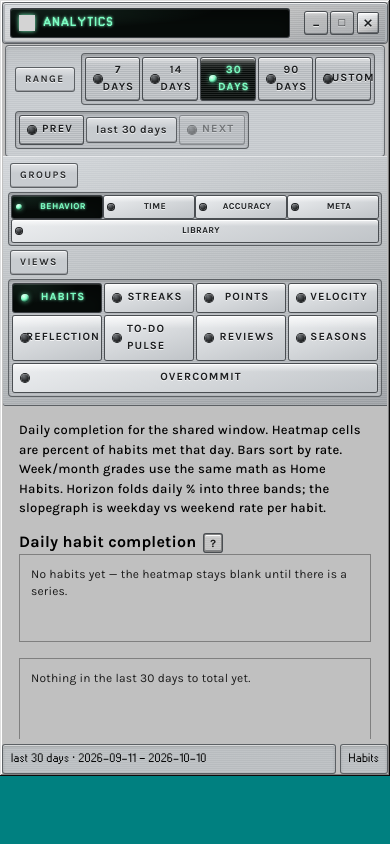
Test: EnhancedAnalytics › opens a custom inclusive window and labels it as the dates
Click the button "Custom" at {"x": 343, "y": 79}, box top-left (316, 58), bottom-right (370, 100)
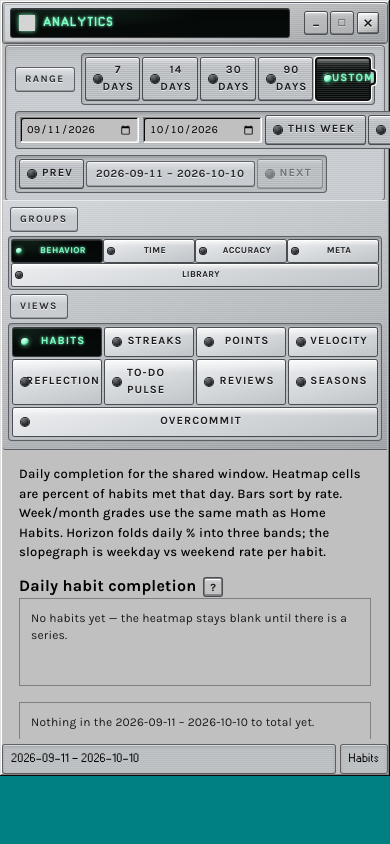
Type "2026-08-01" into the date field named "From date" at {"x": 80, "y": 130}, box top-left (20, 117), bottom-right (139, 143)
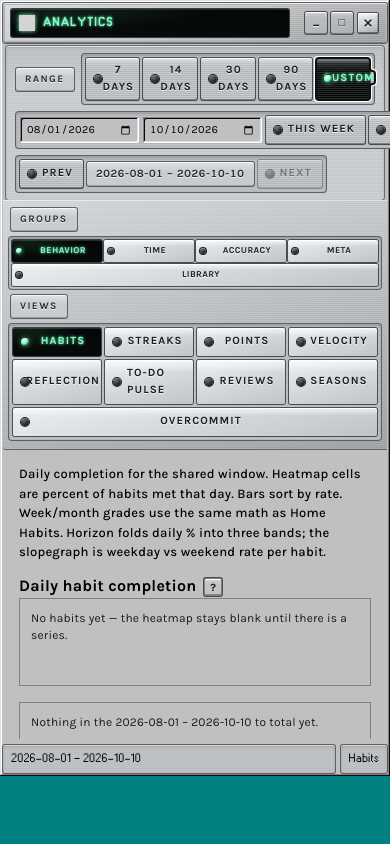
Type "2026-09-21" into the date field named "To date" at {"x": 202, "y": 130}, box top-left (143, 117), bottom-right (262, 143)
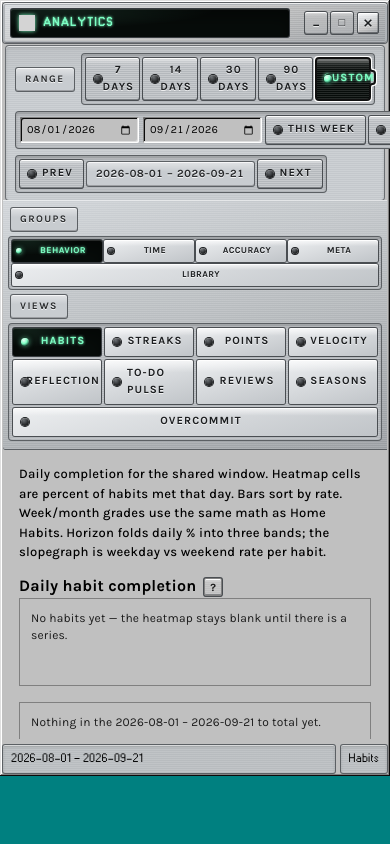
Check: the text named "Analytics date range" reads "2026-08-01 – 2026-09-21", box top-left (96, 167), bottom-right (245, 180)
